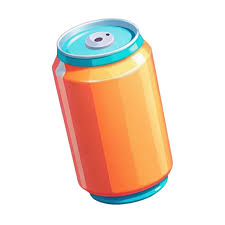can: (51, 18, 174, 205)
